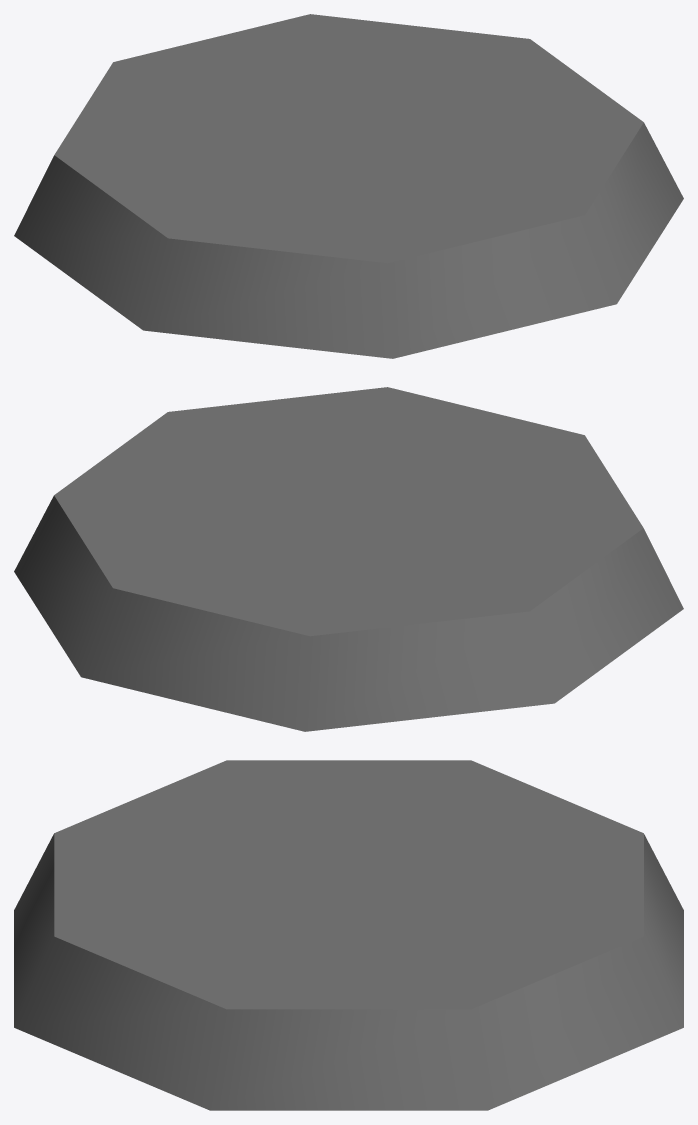
The model's file is Itr_Barchair_Base_03.FBX.
The picture shows the model from 3 angles, top to bottom: view 1: azimuth 30°, elevation 25°; view 2: azimuth 150°, elevation 25°; view 3: azimuth 270°, elevation 25°; orthographic projection. The views are drawn at different scales.
Visible parts, largest first — view 1: Itr_Barchair_Base_03; view 2: Itr_Barchair_Base_03; view 3: Itr_Barchair_Base_03.
Part boxes in pixels (<box>): Itr_Barchair_Base_03: <box>14,14,683,358</box>; Itr_Barchair_Base_03: <box>14,387,683,731</box>; Itr_Barchair_Base_03: <box>14,760,683,1110</box>.
Size of the model in its own units: 12.19 by 1.69 by 12.19.
